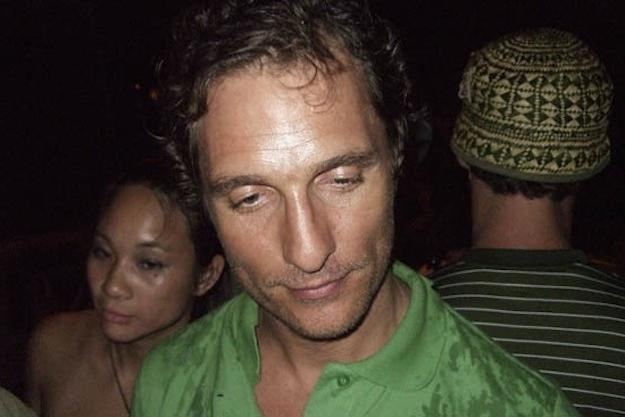Drunk: (202, 72, 393, 332), (89, 194, 199, 338)
